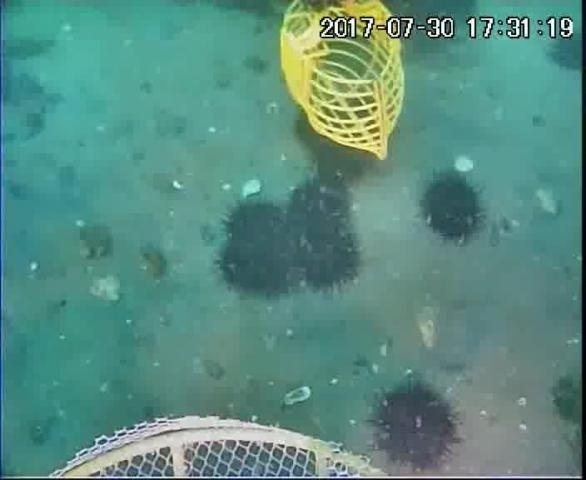echinus: (365, 376, 464, 472), (290, 225, 370, 305), (214, 232, 297, 300), (415, 169, 488, 245), (284, 174, 355, 242), (301, 133, 376, 186), (219, 196, 288, 251), (542, 21, 585, 79), (289, 110, 329, 158)
